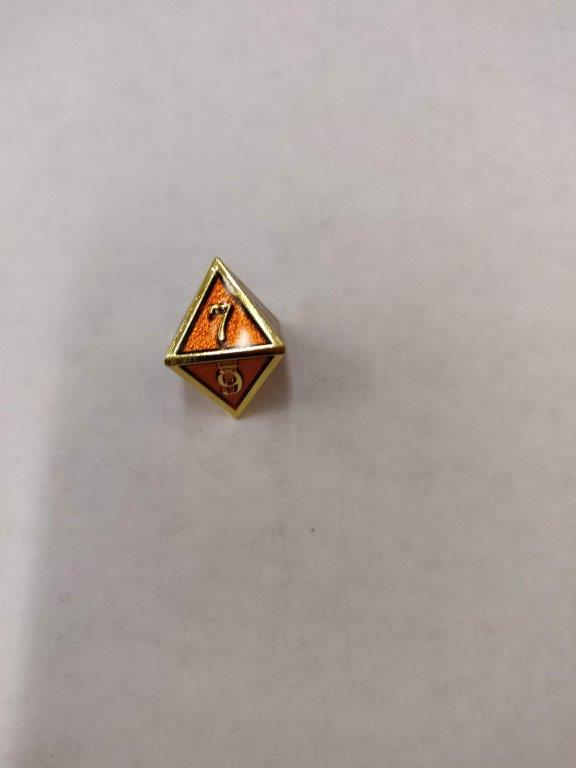d8-7: (162, 255, 289, 422)
